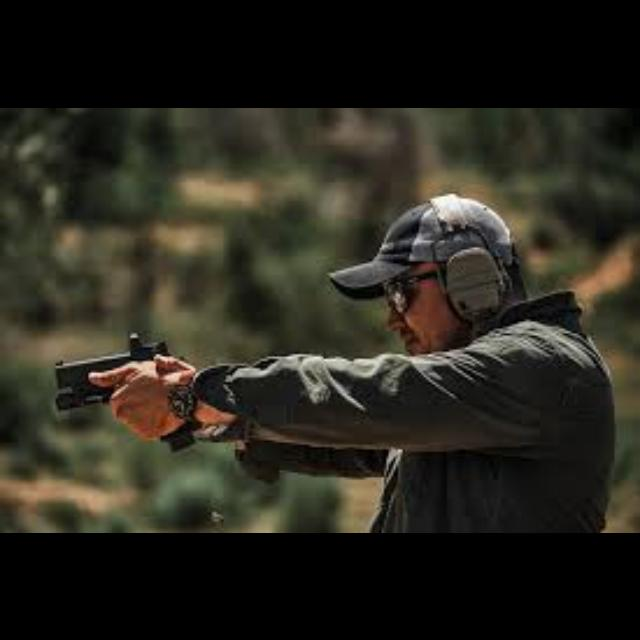handgun: (48, 331, 174, 414)
